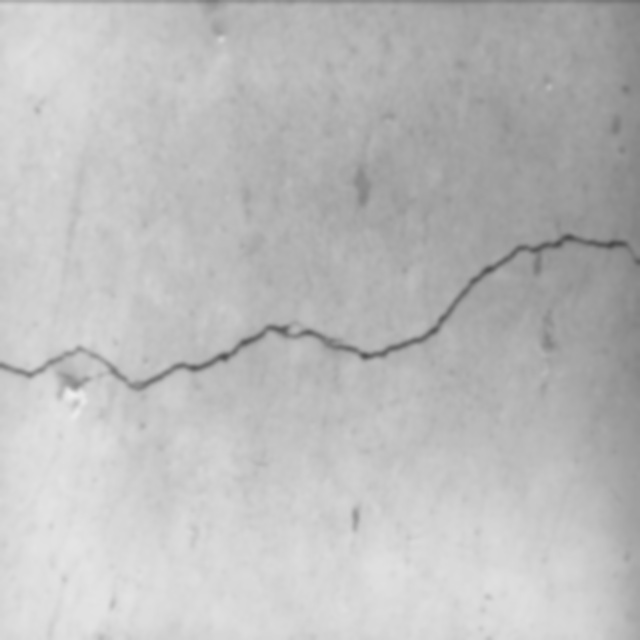SurfaceCrack: (1, 211, 640, 420)
